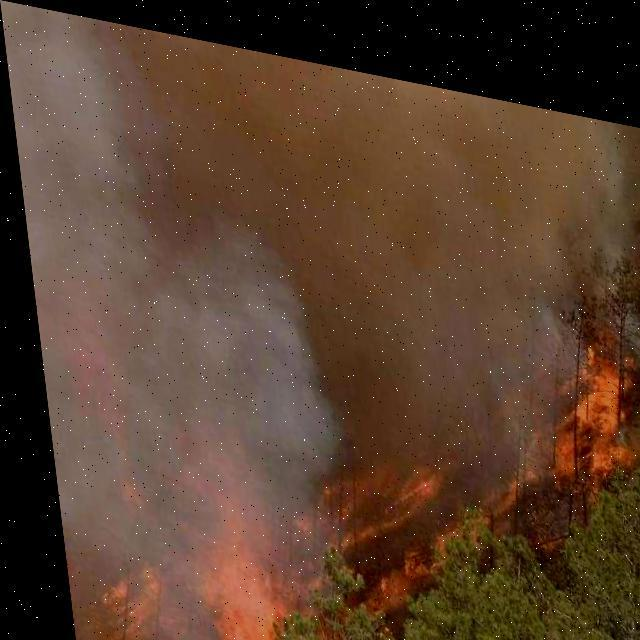Fire: (58, 229, 639, 639)
